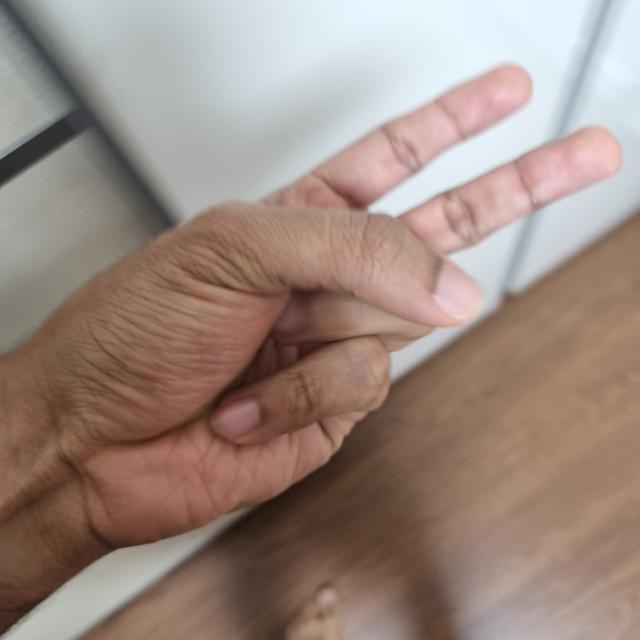Scissors: (56, 66, 613, 523)
